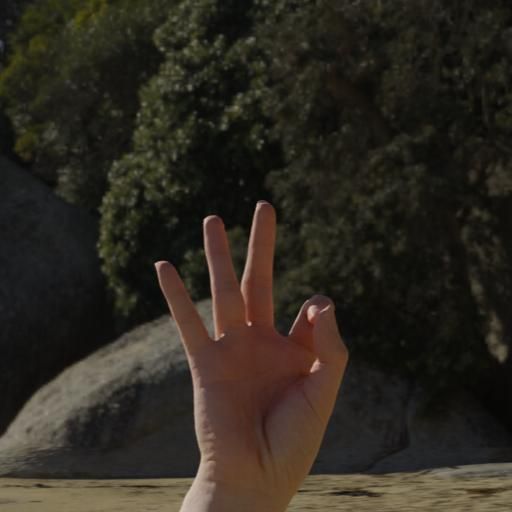F: (151, 195, 351, 496)
